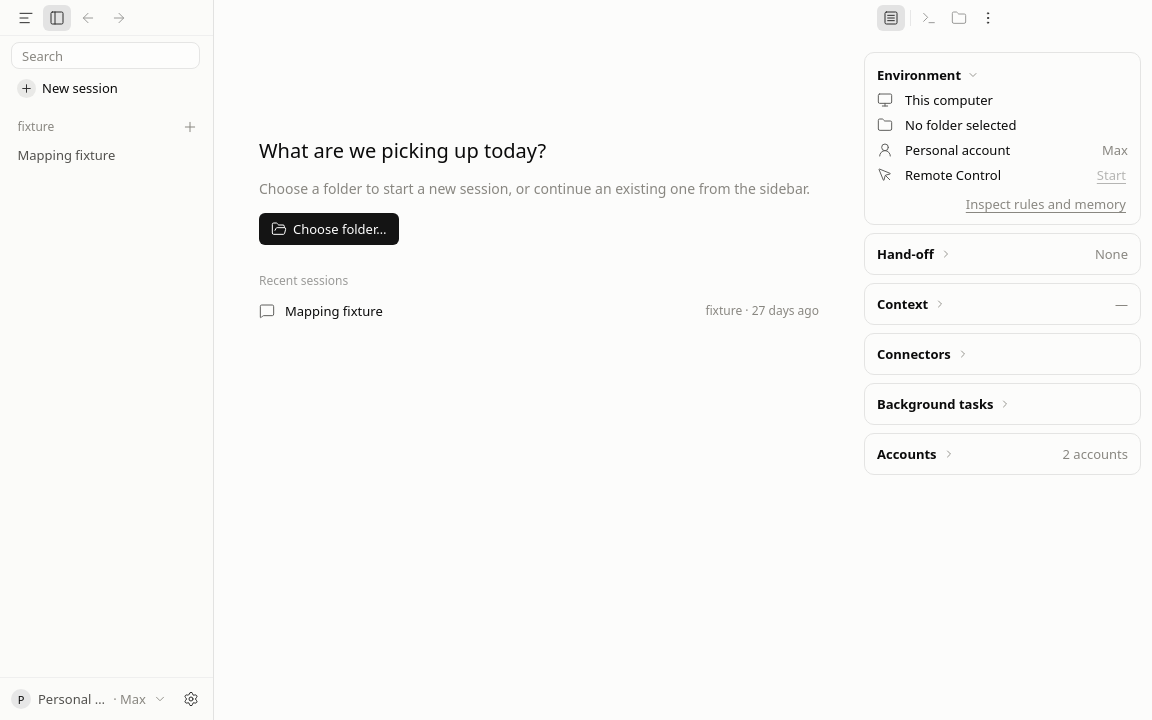
Test: transcript mapping › expands into the tool card with the failed row open, its error and its params
What coordinates should you click on to do the following:
click the button "Mapping fixture"
I would click on:
 (106, 155)
Its box is top-left (7, 141), bottom-right (206, 169).
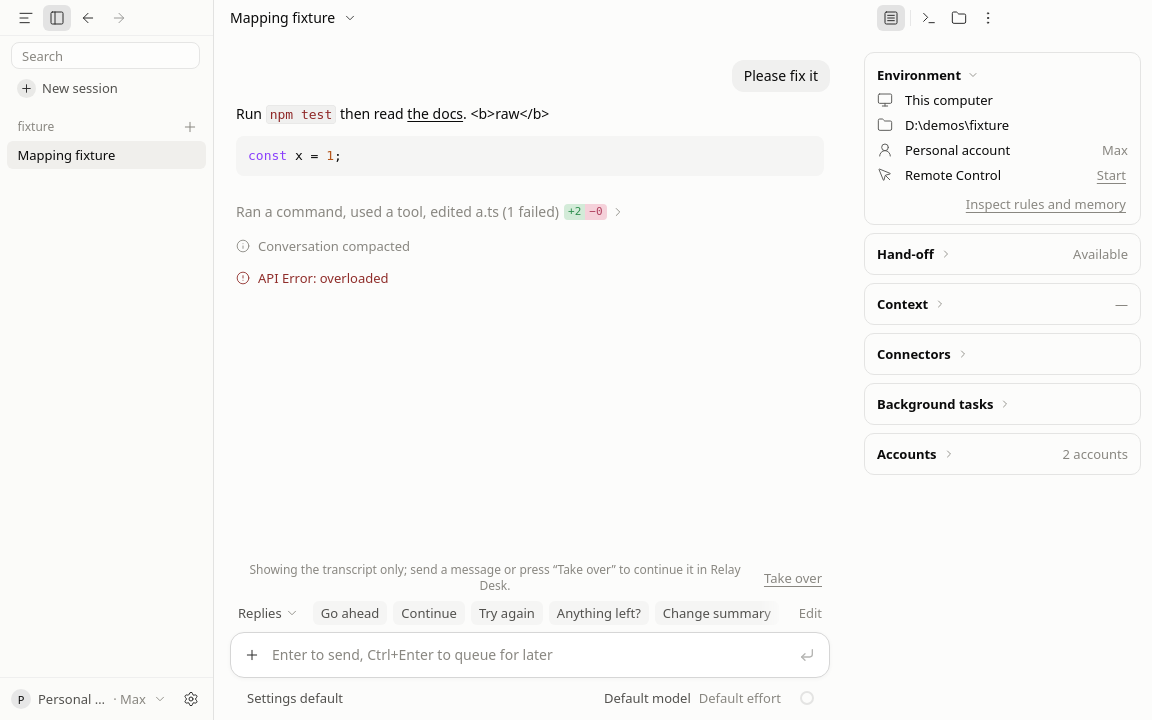
Check: the element with test id "assistant-message" is shown, box top-left (230, 104), bottom-right (830, 188)
What coordinates should you click on to do the following:
click the button "Ran a command, used a tool, edited a.ts (1 failed) +2 −0"
I would click on:
 (430, 212)
Its box is top-left (230, 200), bottom-right (630, 224).
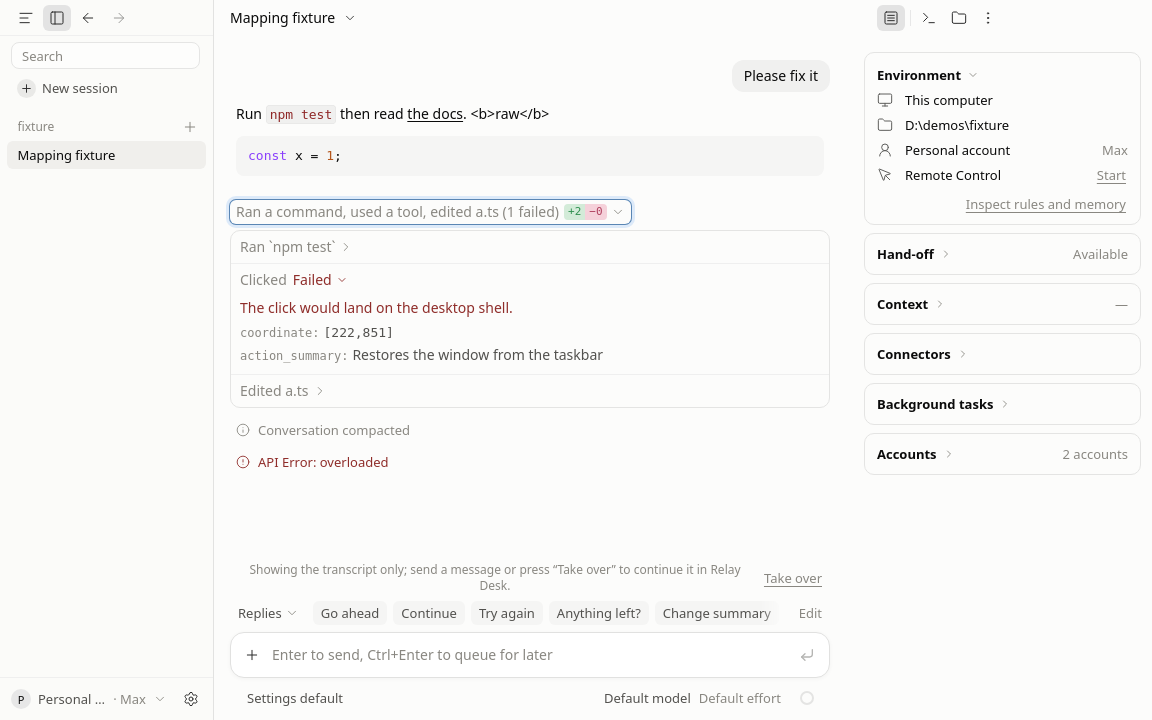
Check: the number of elements with test id "tool-row" is 3
Check: the text "Failed" is shown, box top-left (293, 270), bottom-right (332, 290)
Check: the message "The click would land on the desktop shell." is shown, box top-left (240, 298), bottom-right (513, 317)
What coordinates should you click on to do the following:
click the button "Edited a.ts"
I would click on:
 (274, 390)
Its box is top-left (231, 375), bottom-right (829, 407).
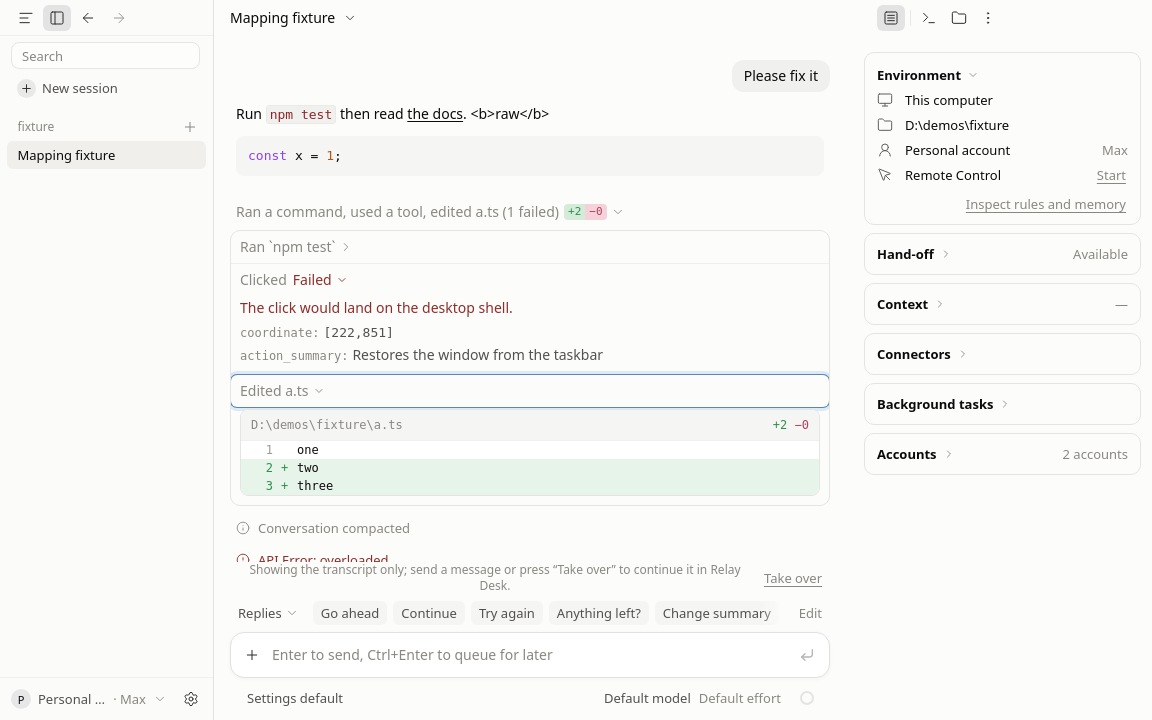
Check: the element "D:\\demos\\fixture\\a.ts" shows "+2", box top-left (240, 409), bottom-right (820, 496)
